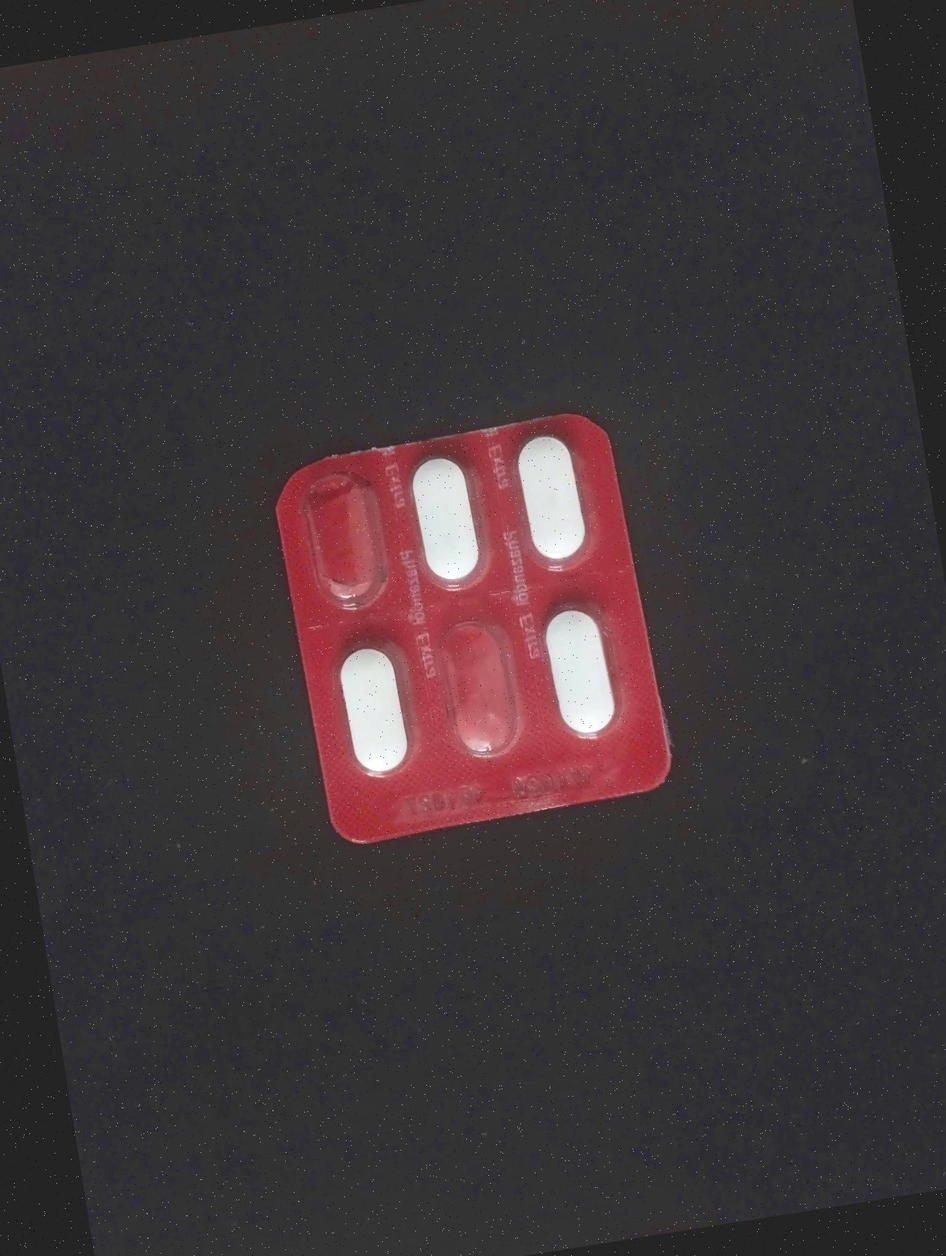Empty: (433, 610, 534, 760), (294, 456, 390, 613)
Full: (398, 450, 499, 602), (510, 421, 598, 571), (536, 598, 625, 744), (328, 639, 413, 786)
